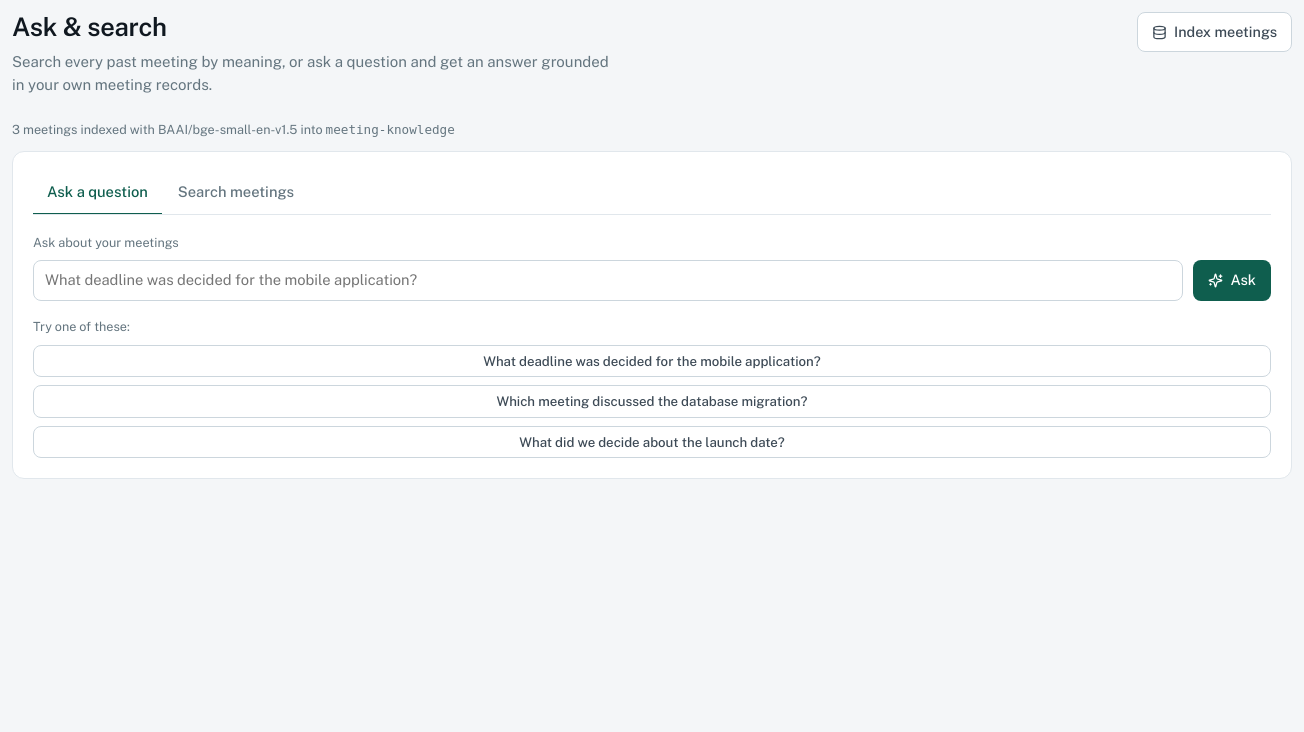
Test case: ask & search page › searches meetings and lists the matches
Click the tab "Search meetings": (236, 193) 164,172 -> 308,215
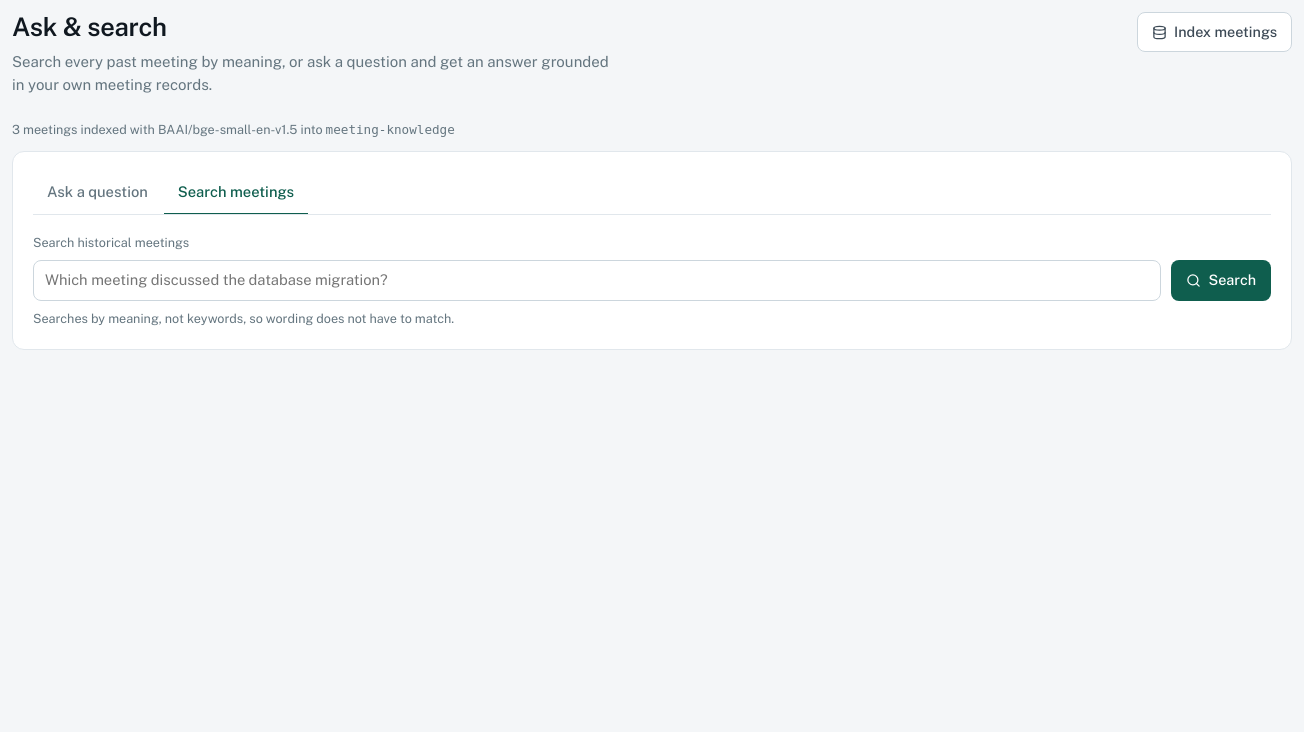
In the field with placeholder "Which meeting discussed the database migration?": (597, 281) 33,260 -> 1161,301, type "database migration"
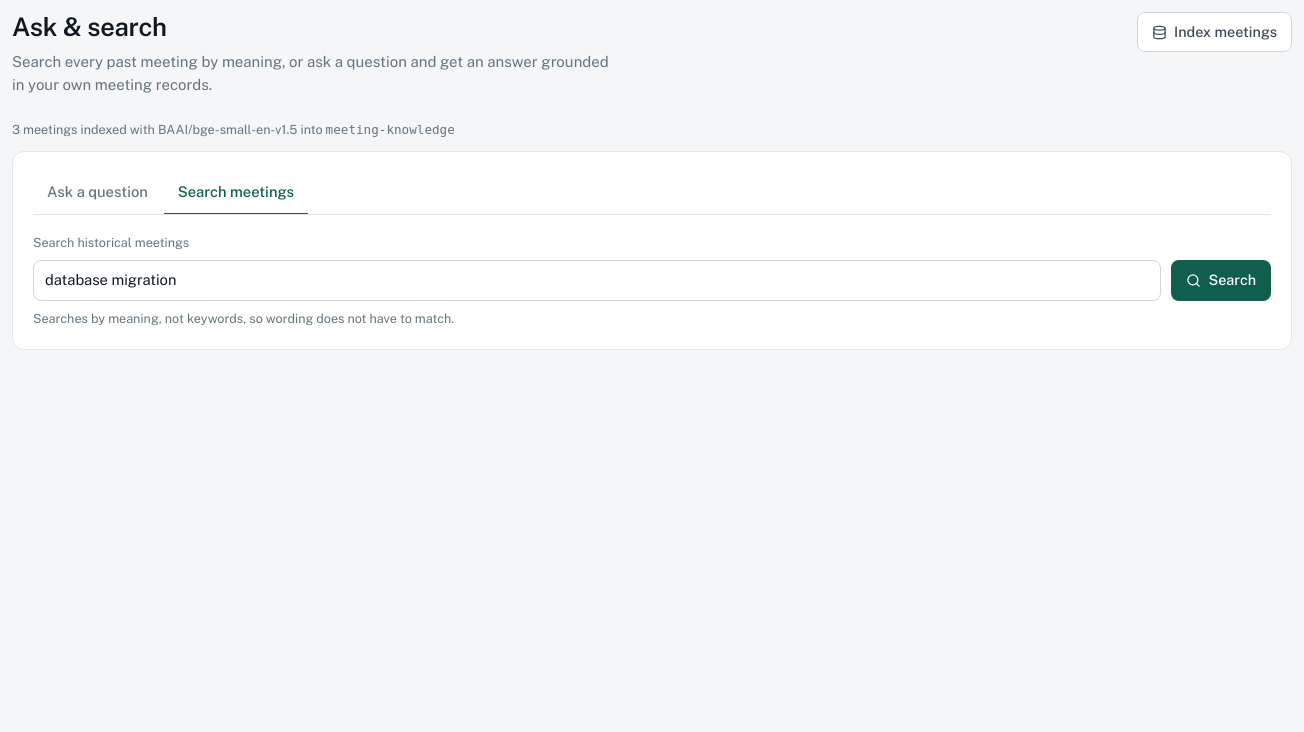
Click the button "Search": (1221, 281) 1171,260 -> 1271,301
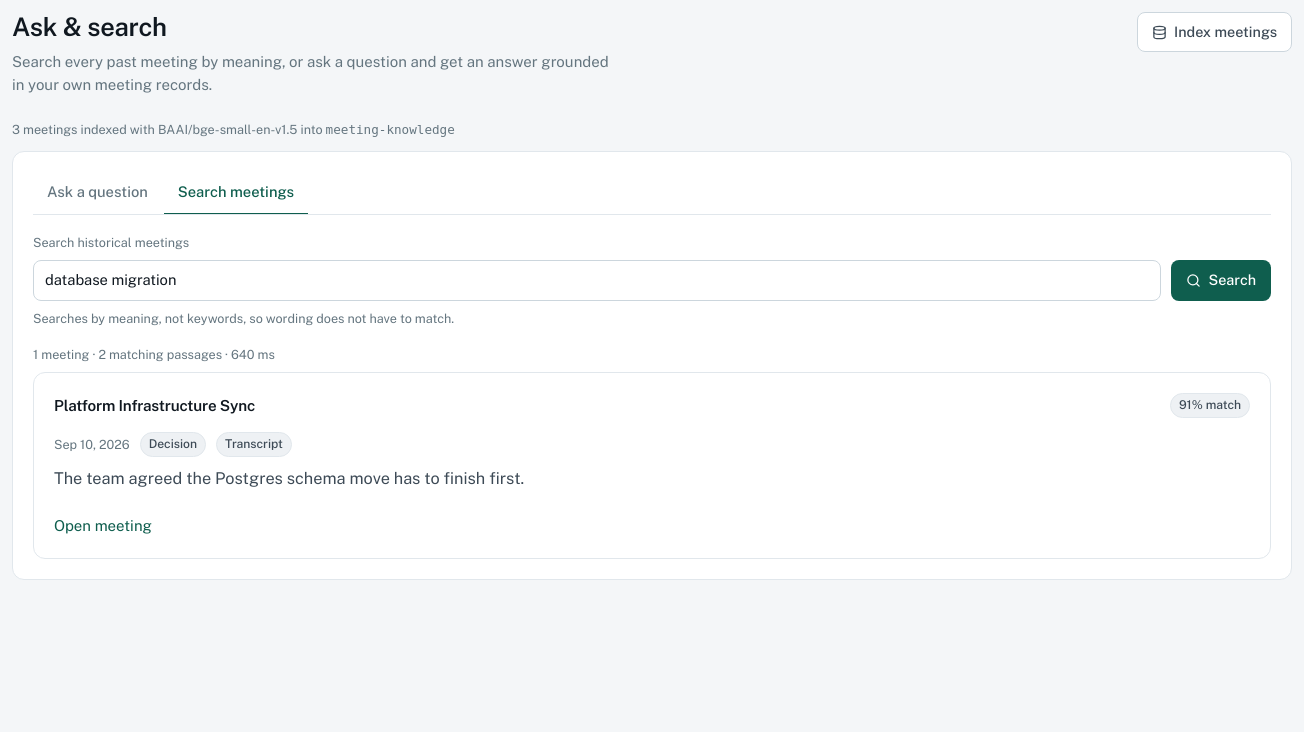
Expected: the heading "Platform Infrastructure Sync" is shown, 54,396 -> 255,415
Expected: the text "Postgres schema move" is shown, 54,468 -> 524,488
Expected: the text "91% match" is shown, 1170,393 -> 1250,418
